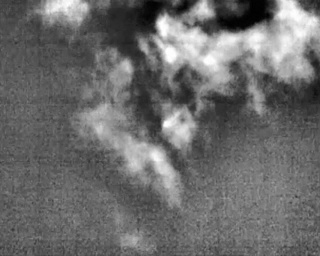AIRPLANE: (133, 116, 146, 130)
